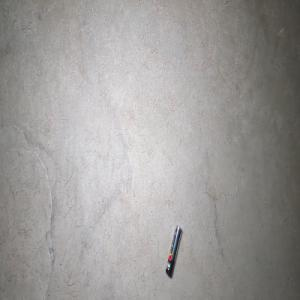Battery: (165, 224, 182, 278)
